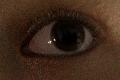eye: (51, 19, 86, 52)
